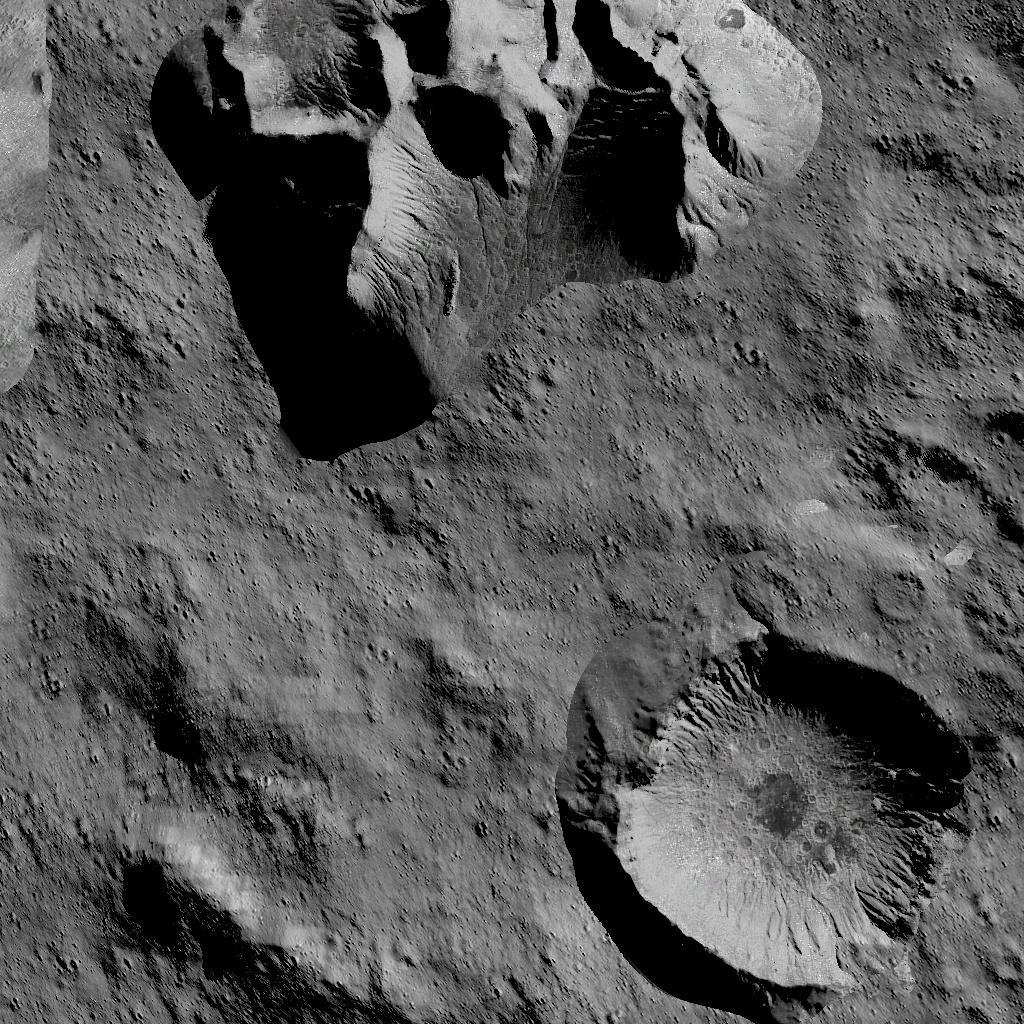Boulders: (144, 0, 824, 453), (117, 830, 379, 1024), (0, 0, 54, 412)
Crater: (560, 604, 1000, 1024), (143, 694, 227, 778)
Plan surface: (246, 470, 538, 804), (847, 0, 1024, 388), (14, 472, 224, 672), (556, 466, 868, 588)
